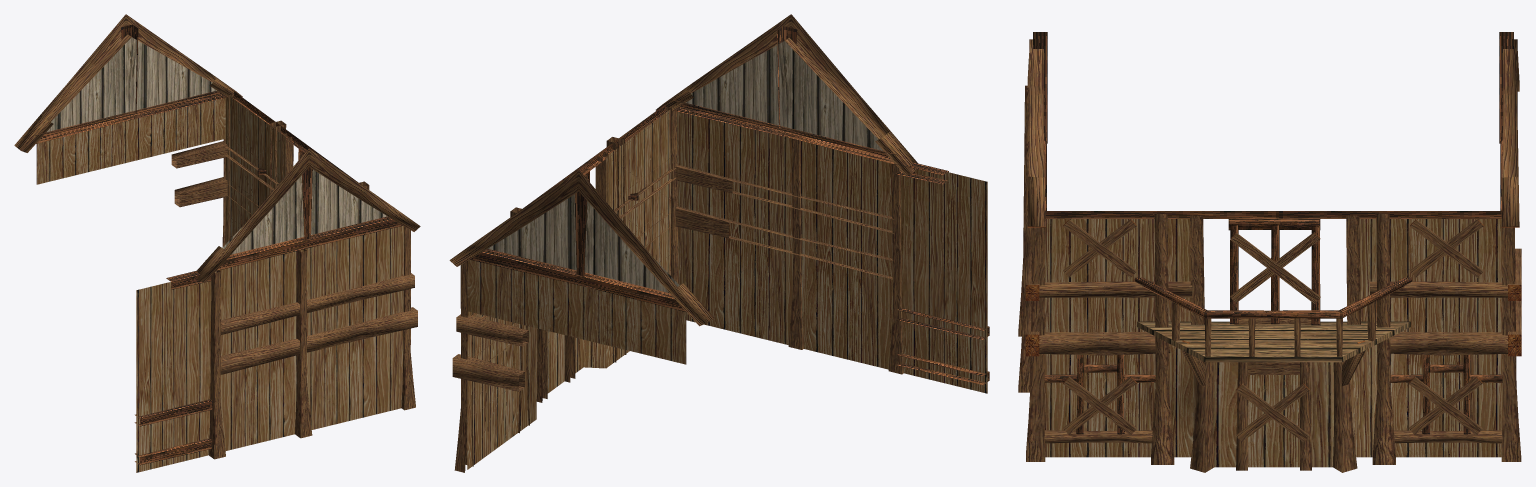
The model's file is LAKETOWN_EXTERIOR_PS_LT_EMPTYHOUSE97__GX.obj.
3 renders of one model, left to right at view 1: azimuth 30°, elevation 25°; view 2: azimuth 150°, elevation 25°; view 3: azimuth 270°, elevation 25°, orthographic. The views are drawn at different scales.
Visible parts, largest first — view 1: mptyHouse97__GX; view 2: mptyHouse97__GX; view 3: mptyHouse97__GX.
Part boxes in pixels (<box>): mptyHouse97__GX: <box>14,14,420,472</box>; mptyHouse97__GX: <box>449,14,989,472</box>; mptyHouse97__GX: <box>1018,32,1521,472</box>.
Bounding box in the file's own units: 1092 × 919 × 1104.
